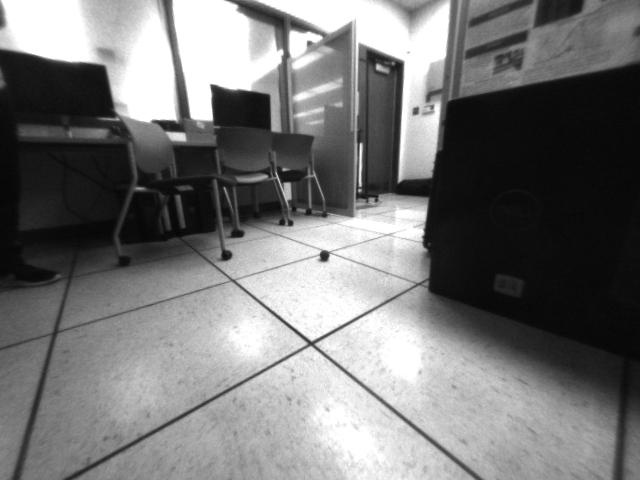dogtoy: (311, 245, 336, 265)
